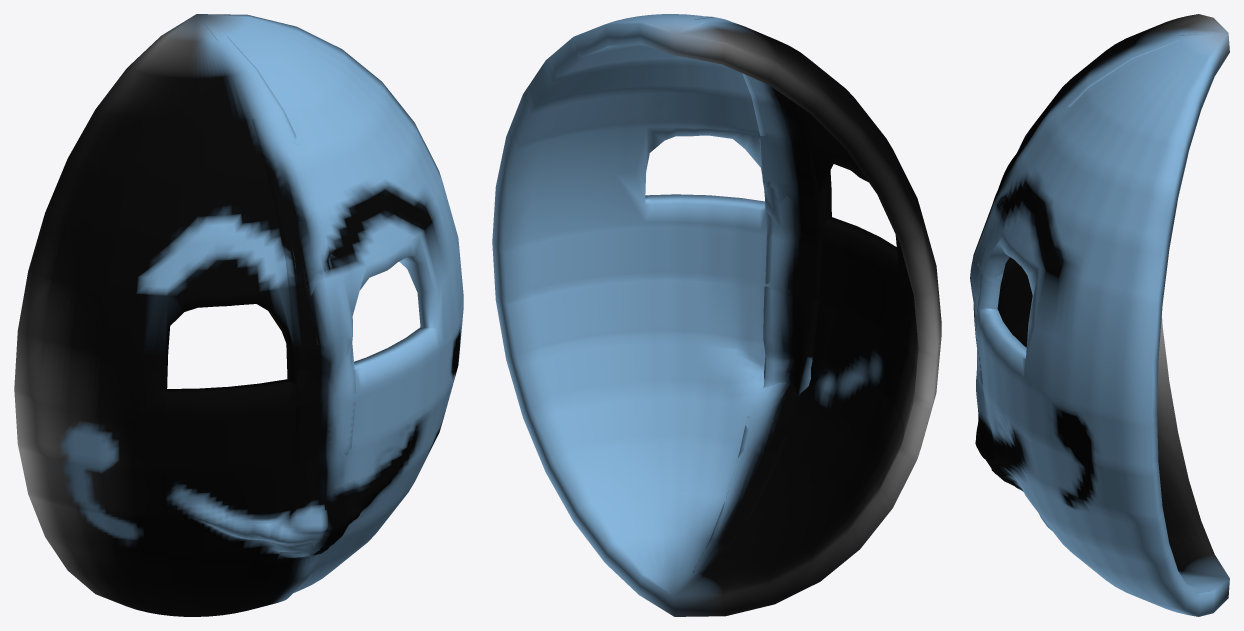
File: mask1.glb
3 views of the same model, side by side, from view 1: azimuth 30°, elevation 25°; view 2: azimuth 150°, elevation 25°; view 3: azimuth 270°, elevation 25° (orthographic). The views are drawn at different scales.
Visible parts, largest first — view 1: Sphere; view 2: Sphere; view 3: Sphere.
Boxes of the visible parts, x1,y1,x2,y2 form: Sphere: (14,14,463,616); Sphere: (492,14,941,616); Sphere: (970,14,1229,616).
Bounding box in the file's own units: 1.97 × 2.47 × 1.03.
